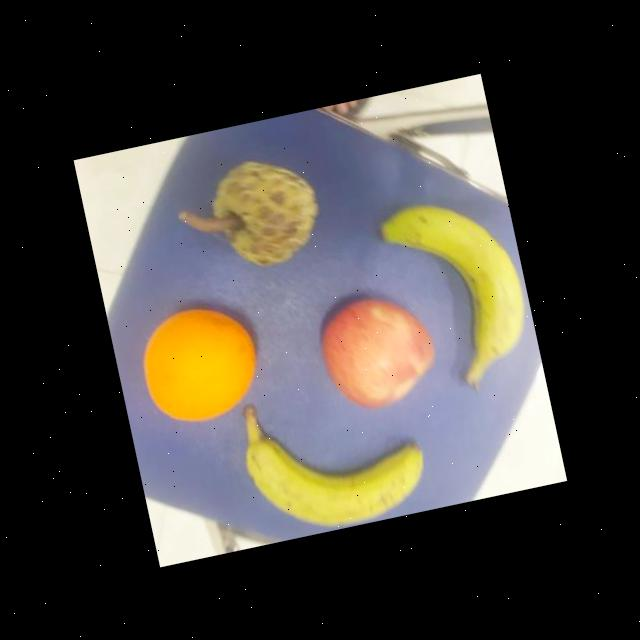Sakya fruit: (200, 144, 332, 277)
apple: (308, 278, 452, 422)
banana: (376, 185, 544, 402), (238, 406, 438, 546)
orange: (130, 287, 274, 433)
